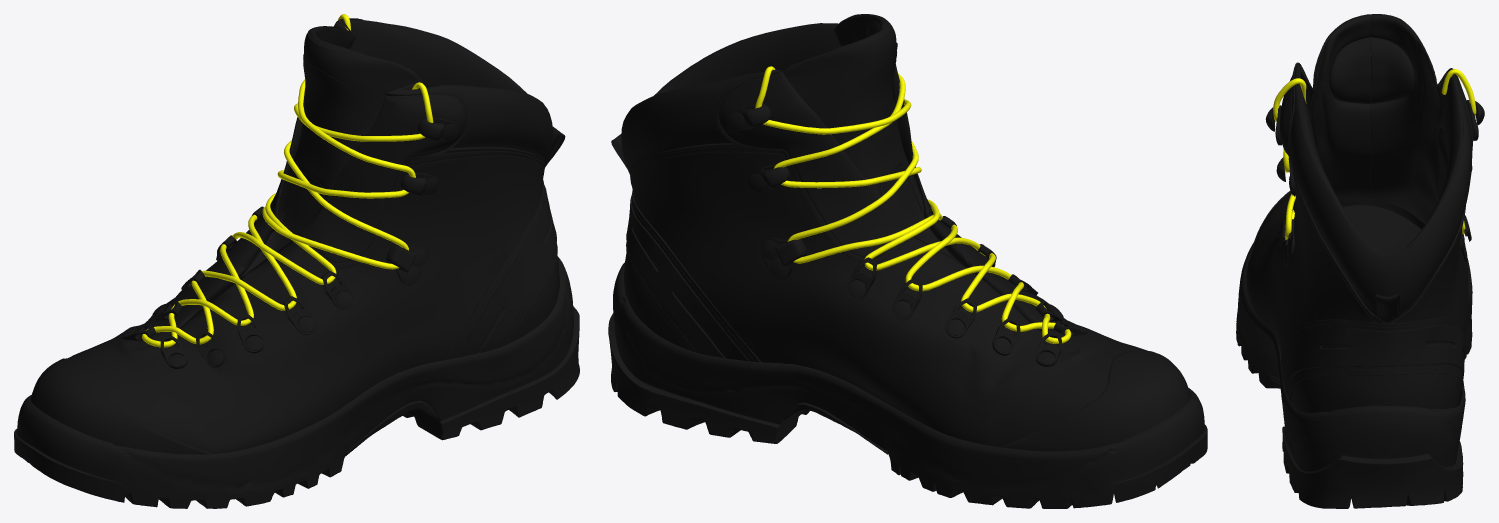
The model's file is shoe-draco.glb.
3 renders of one model, left to right at view 1: azimuth 30°, elevation 25°; view 2: azimuth 150°, elevation 25°; view 3: azimuth 270°, elevation 25°, orthographic. The views are drawn at different scales.
Visible parts, largest first — view 1: Pano Traz_45, object 1; view 2: Pano Traz_45, object 1; view 3: Pano Traz_45, object 1.
Part boxes in pixels (x1,y1,x2,y2): Pano Traz_45: (14,18,579,508); object 1: (142,14,433,347); Pano Traz_45: (608,14,1207,508); object 1: (755,66,1071,343); Pano Traz_45: (1236,14,1484,508); object 1: (1273,69,1476,239).
Bounding box in the file's own units: 4.01 × 2.72 × 1.57.
